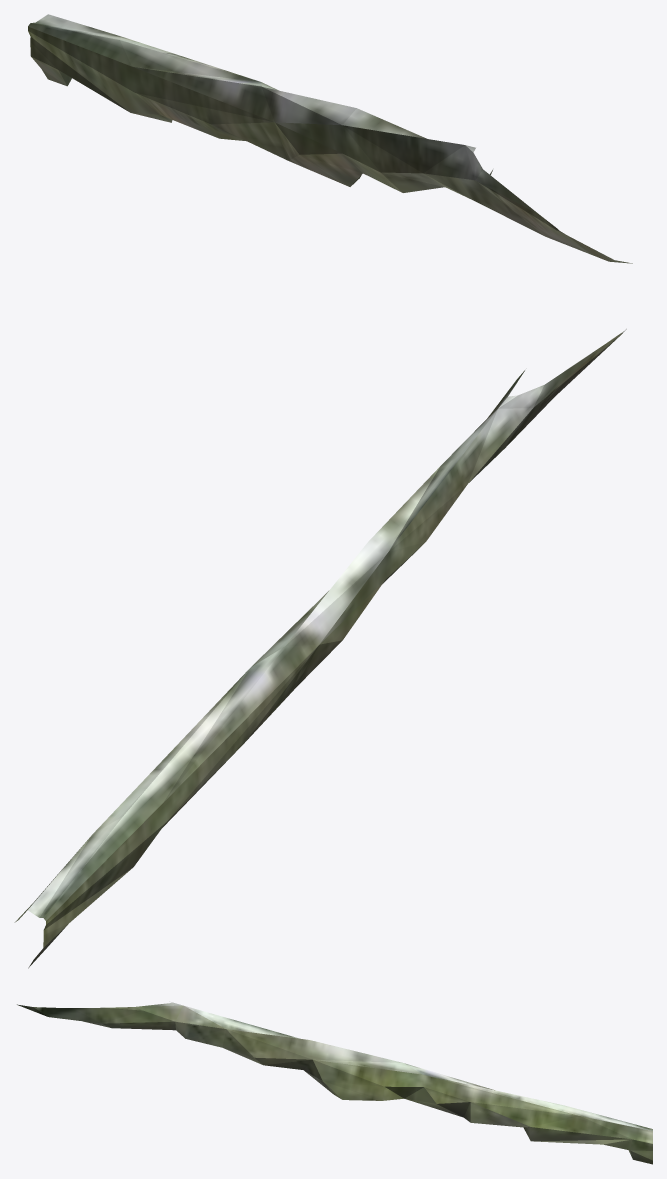
3 renders of one model, top to bottom at view 1: azimuth 30°, elevation 25°; view 2: azimuth 150°, elevation 25°; view 3: azimuth 270°, elevation 25°, orthographic. The views are drawn at different scales.
Bounding box in the file's own units: 0.3958 × 1.24 × 4.86.
1 material, 1 textured.
